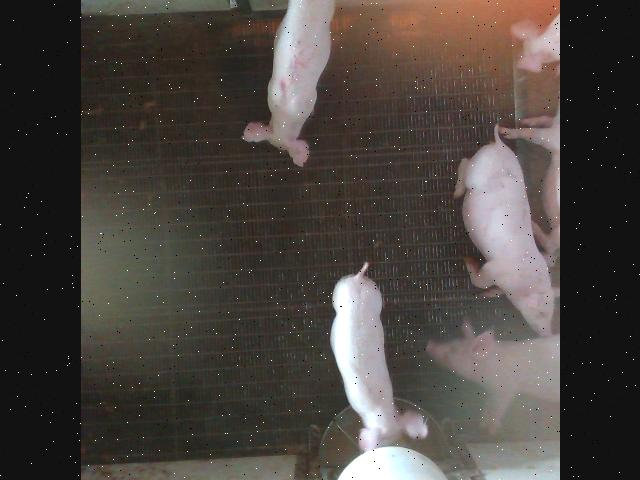pig-5: (241, 0, 333, 166)
